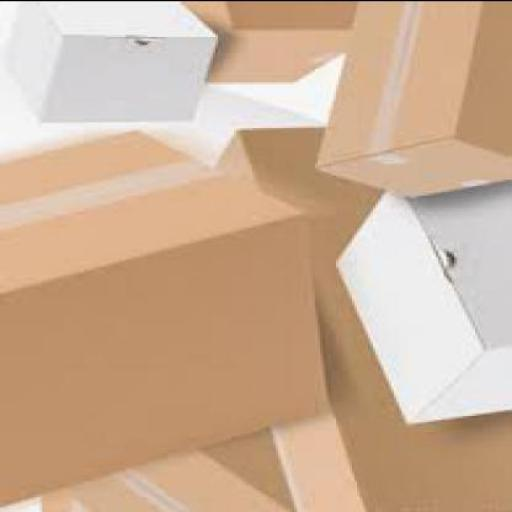cardboard: (0, 133, 329, 511), (215, 129, 511, 511), (334, 181, 510, 422), (312, 2, 510, 199), (3, 2, 212, 120), (37, 434, 295, 511), (189, 2, 351, 83)
